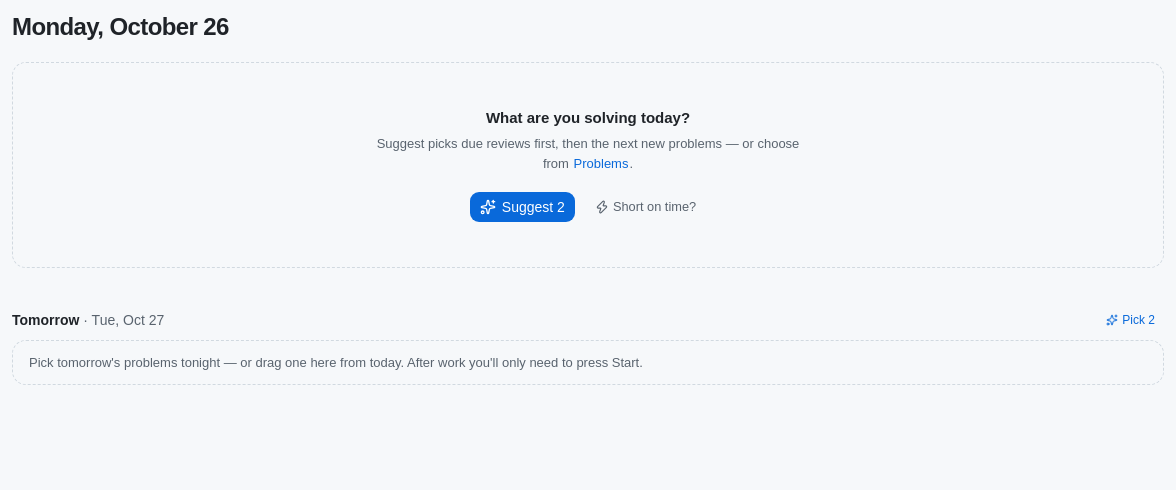
TodayView › starts from an empty day with a suggestion
Expected: the text "What are you solving today?" is shown, [486, 109, 690, 126]
Click the button "Suggest 2" at (522, 206), box [469, 190, 576, 222]
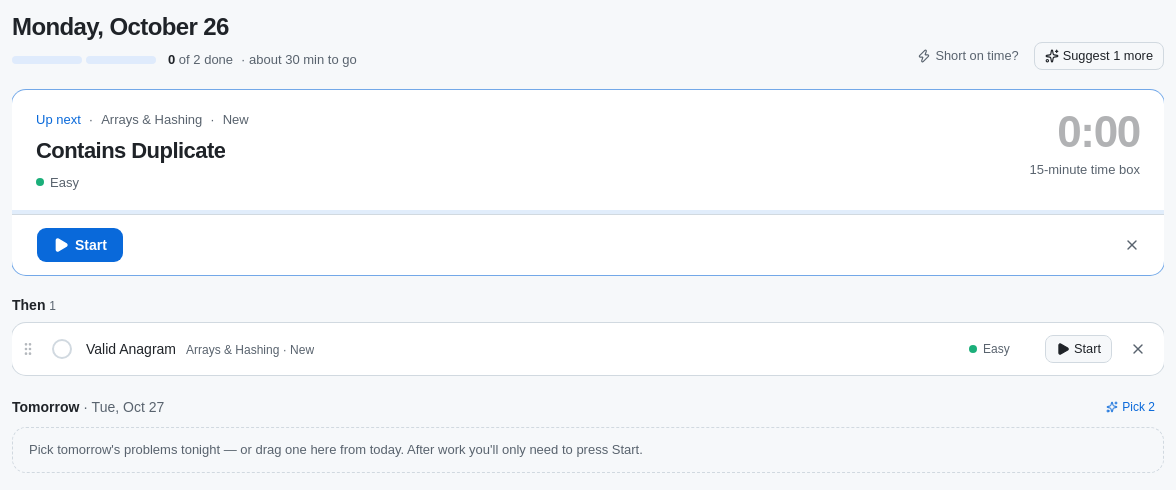
Now the element "Contains Duplicate" shows "Up next", box [36, 112, 81, 126]
